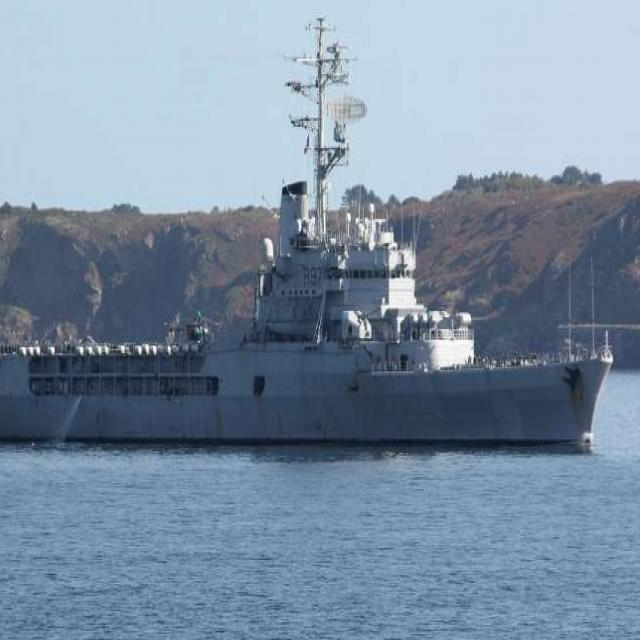Portanaves: (1, 6, 619, 468)
